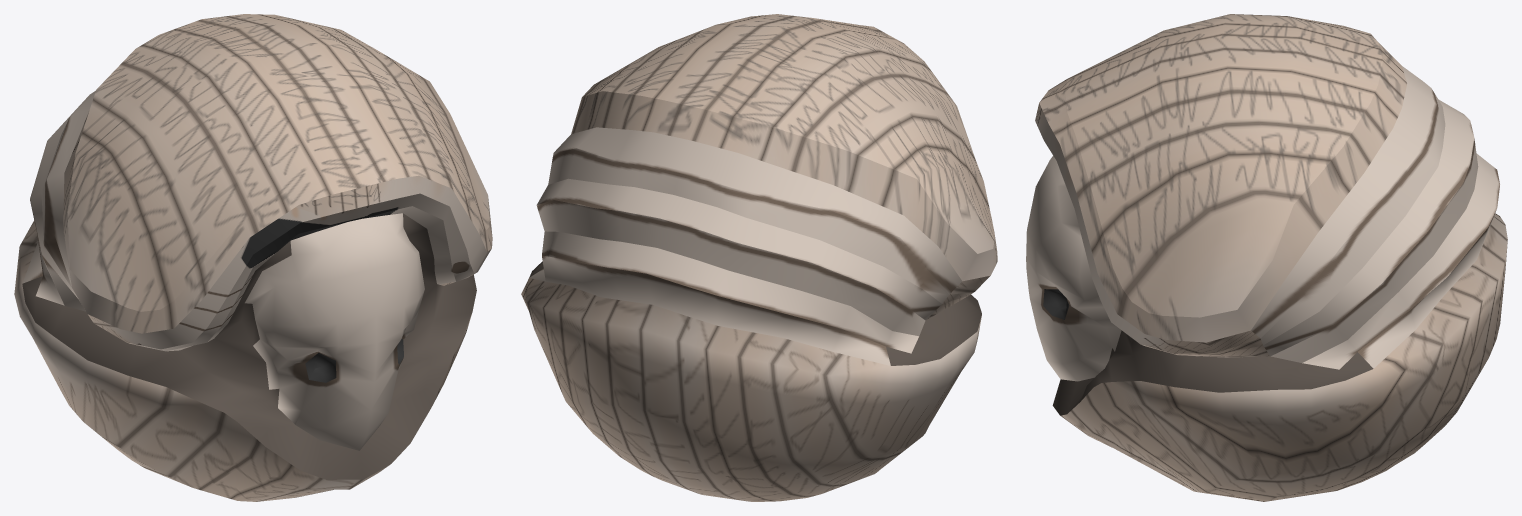
Rendered from SM_Armadillo.FBX.
3 renders of one model, left to right at view 1: azimuth 30°, elevation 25°; view 2: azimuth 150°, elevation 25°; view 3: azimuth 270°, elevation 25°, orthographic.
Visible parts, largest first — view 1: Object004; view 2: Object004; view 3: Object004.
Boxes of the visible parts, <box> form: Object004: <box>14,14,492,501</box>; Object004: <box>521,14,997,501</box>; Object004: <box>1026,14,1507,501</box>.
Bounding box in the file's own units: 340 × 349 × 354.
1 material, 1 textured.
